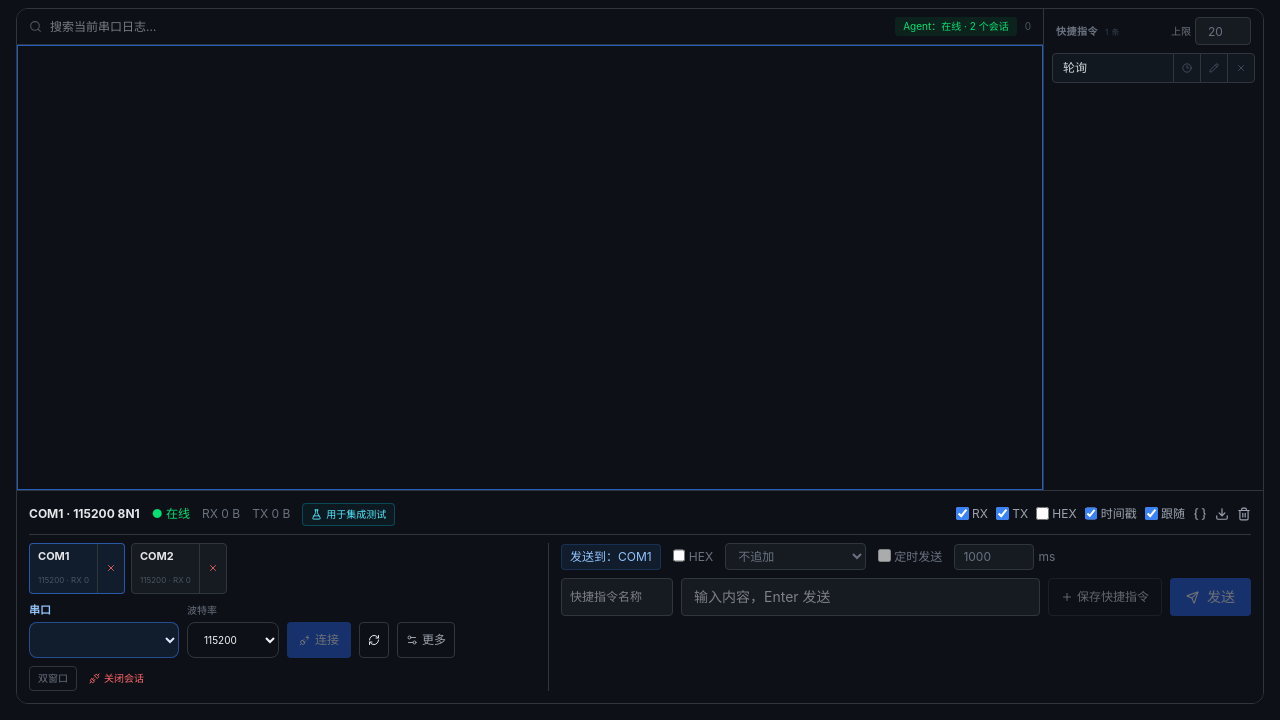
Test: AgentSerialDebugger independent degradation › keeps shortcut cycle switches isolated between Local Agent split sessions
This screenshot has width=1280, height=720.
Click the button "双窗口". click: (53, 678)
box: [29,666,77,691]
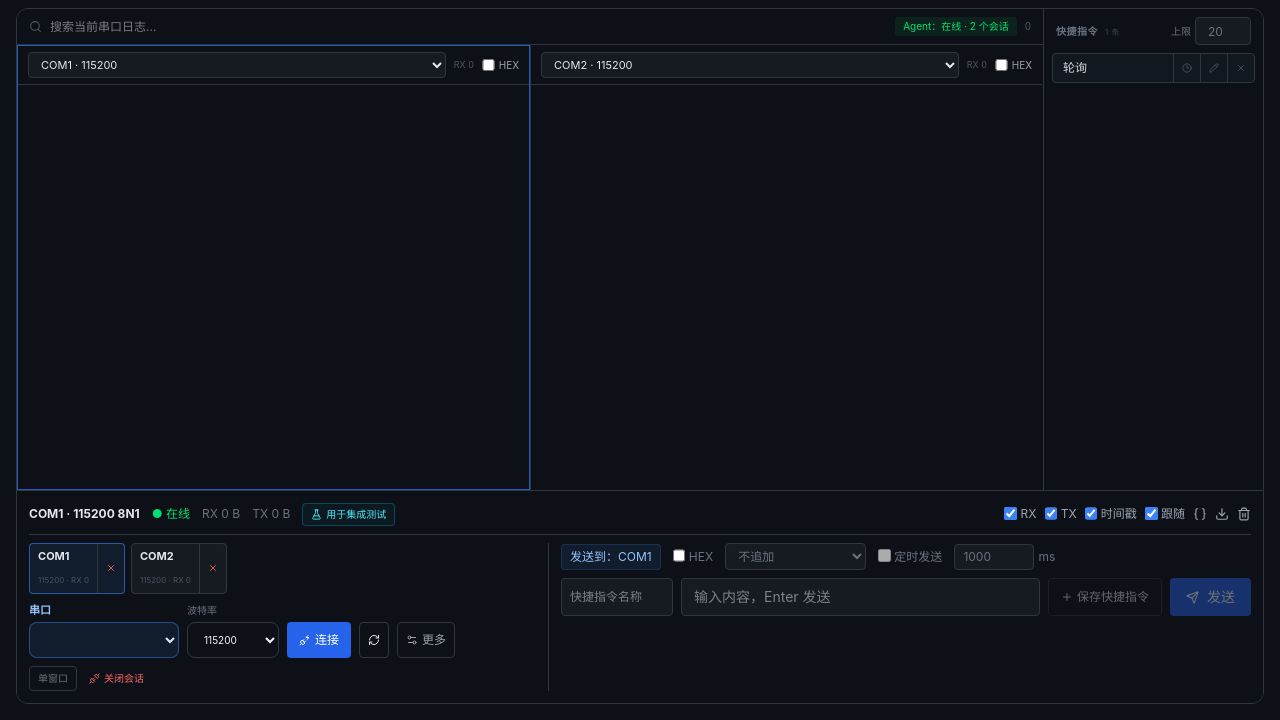
Click the button titled "每 1000ms 周期发送". click: (1186, 68)
box: [1173,54,1200,82]
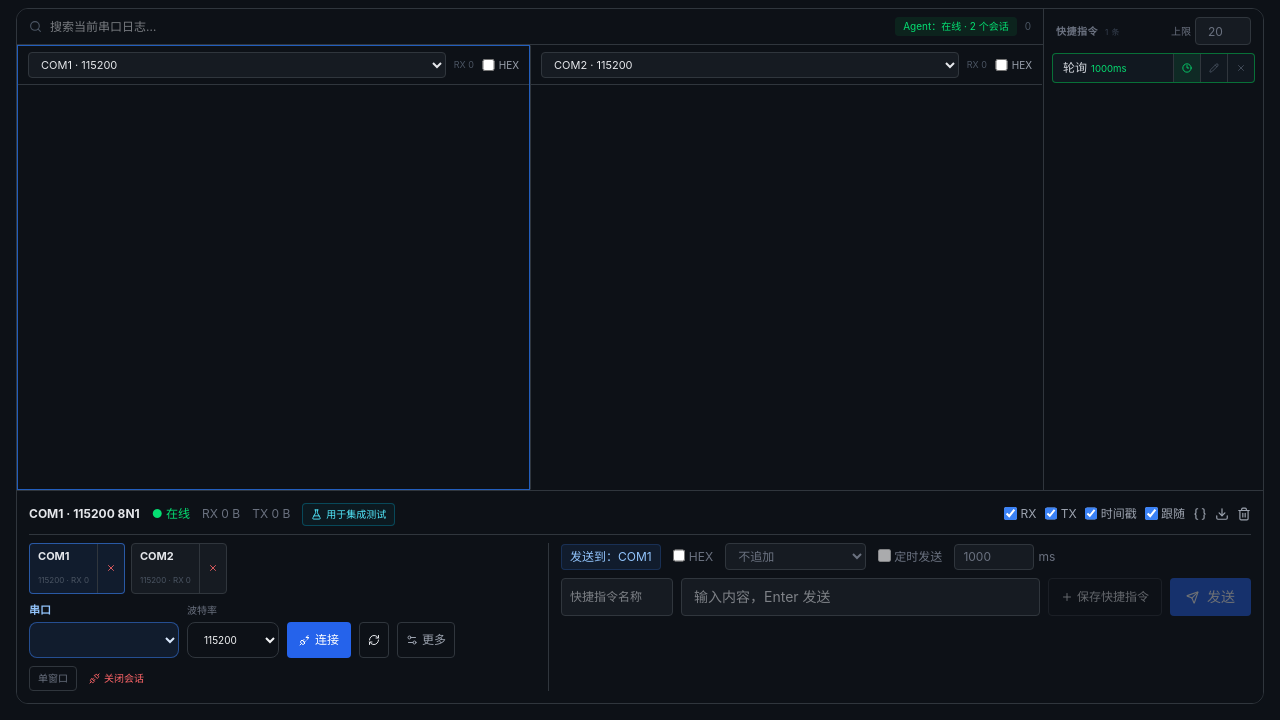
Result: the button titled "停止周期发送" is shown at [1173,54,1200,82]
Click the element with test id "agent-serial-terminal-right". click: (786, 287)
box: [531,85,1042,489]
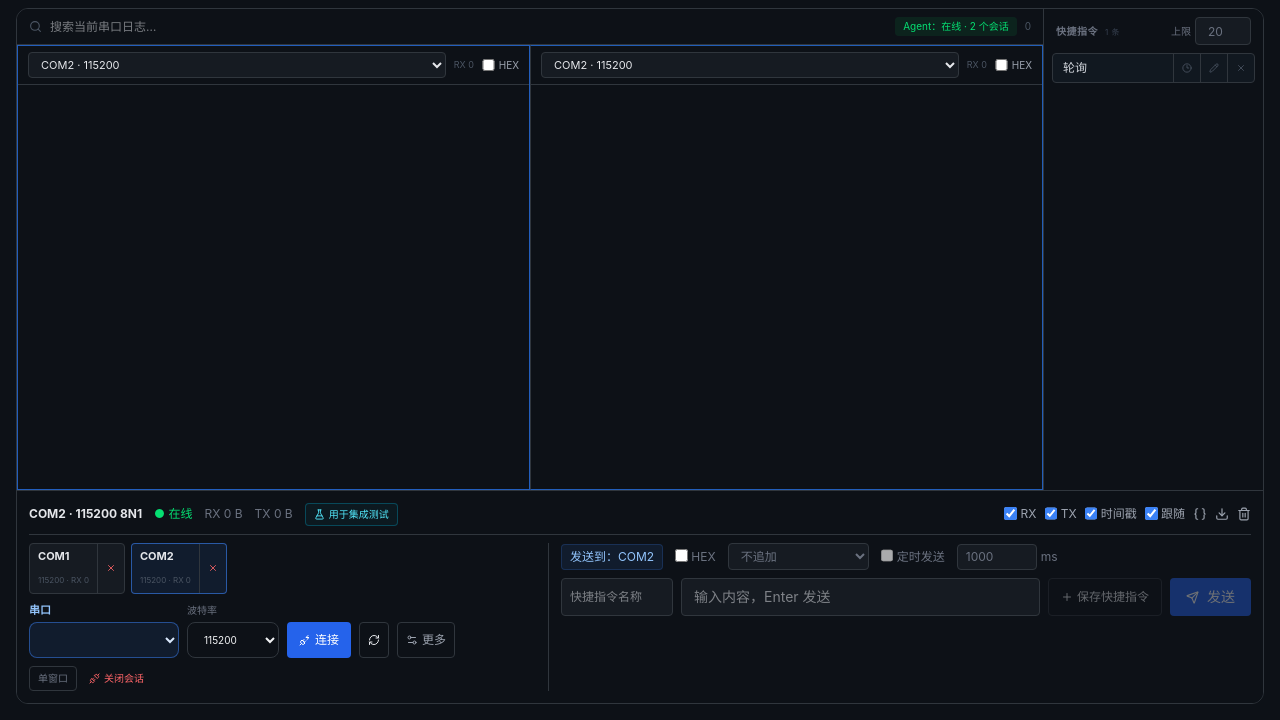
Result: the button titled "每 1000ms 周期发送" is shown at [1173,54,1200,82]
